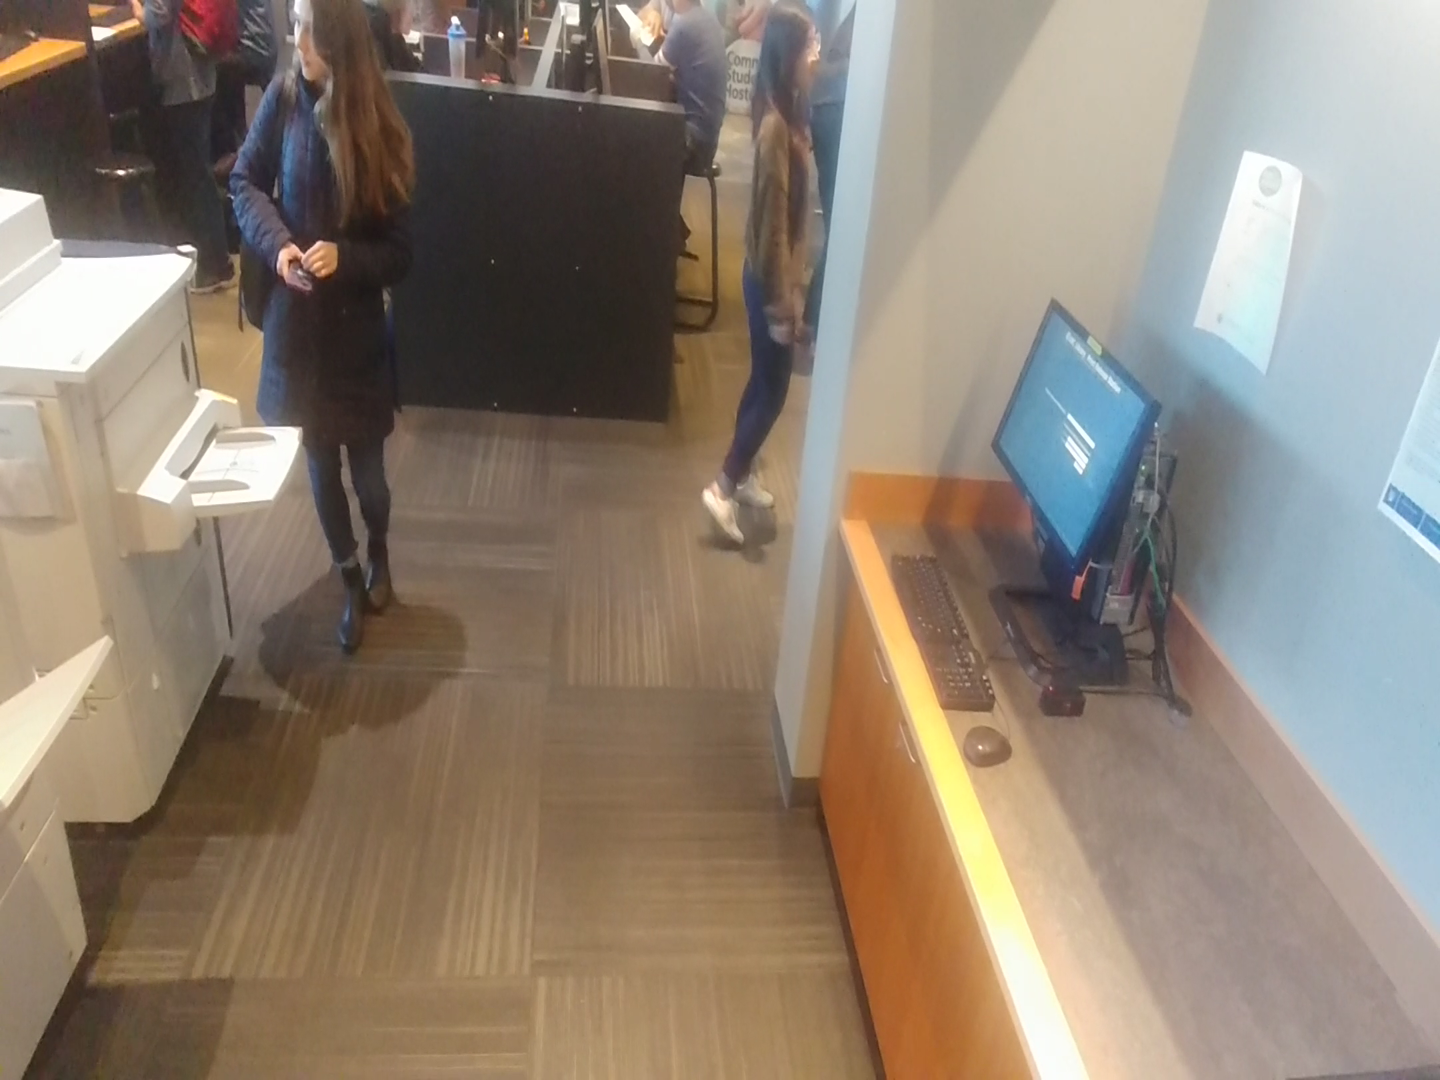face: (747, 0, 831, 147), (263, 1, 379, 98)
human: (227, 0, 426, 667), (696, 0, 830, 547), (127, 0, 249, 297), (633, 0, 739, 195)
